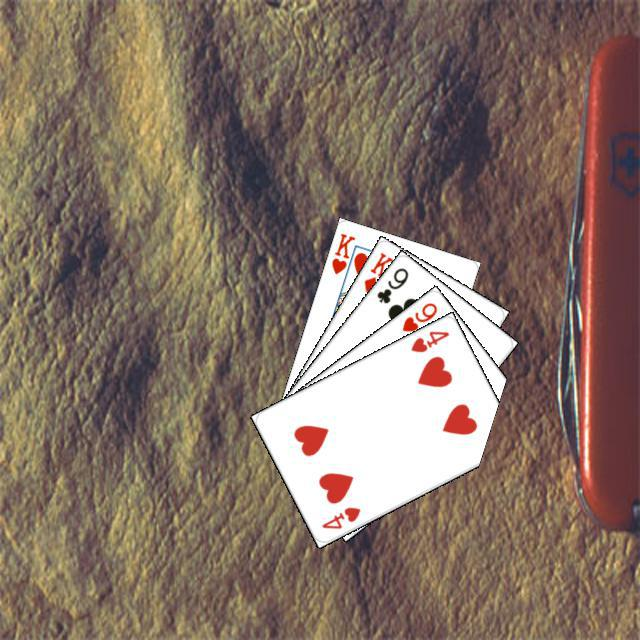4h: (317, 502, 362, 531), (406, 326, 451, 354)
9c: (372, 263, 410, 305)
9h: (397, 297, 439, 334)
Kd: (359, 247, 395, 294)
Kh: (327, 228, 360, 283)
